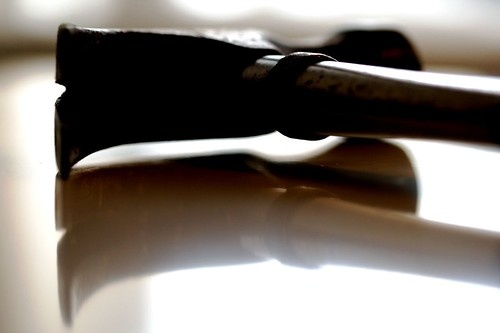hammer: (53, 18, 500, 182)
